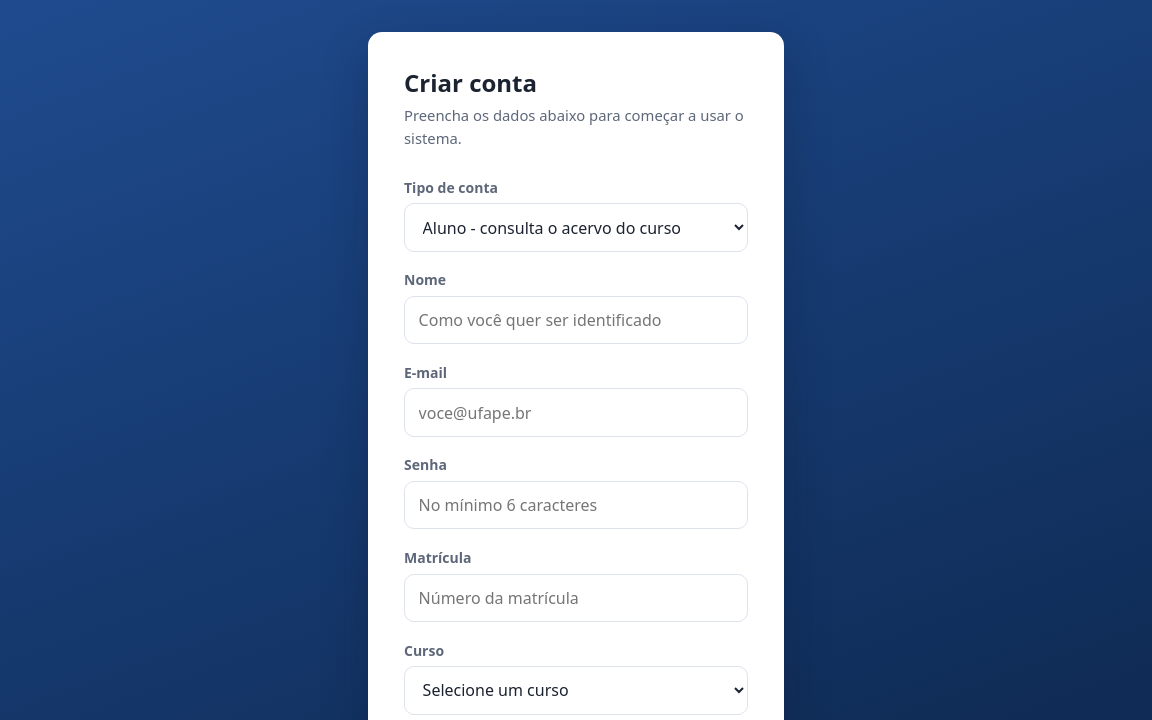
Test case: Tela de cadastro › mostra a mensagem de erro devolvida pelo backend
In the field labelled "Nome": (576, 320) [404,296,748,344], type "Ana Souza"
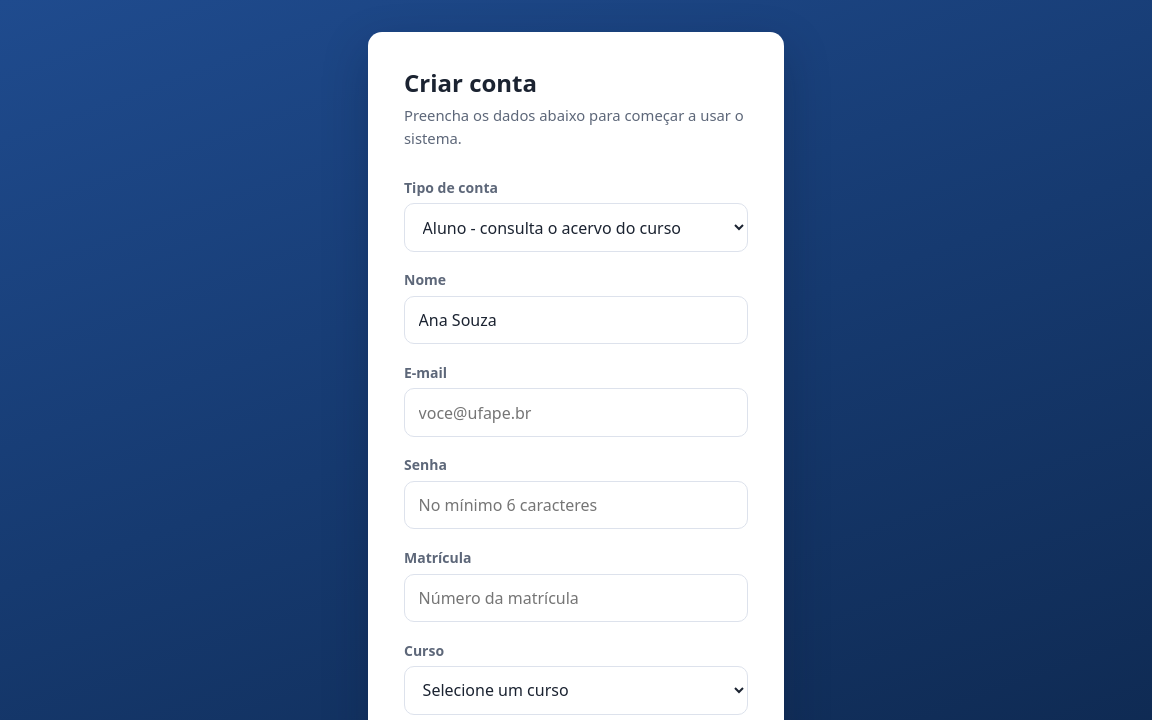
In the field labelled "E-mail": (576, 413) [404,388,748,437], type "ana@ufape.edu.br"
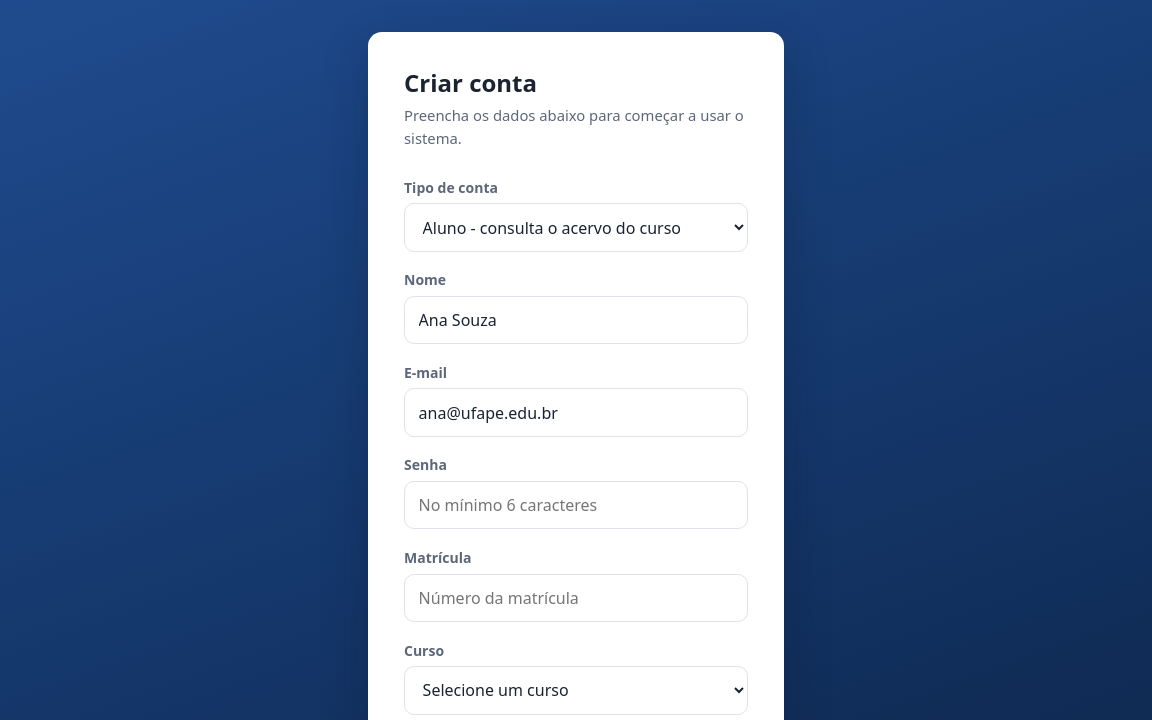
In the password field labelled "Senha": (576, 505) [404,481,748,529], type "segredo123"
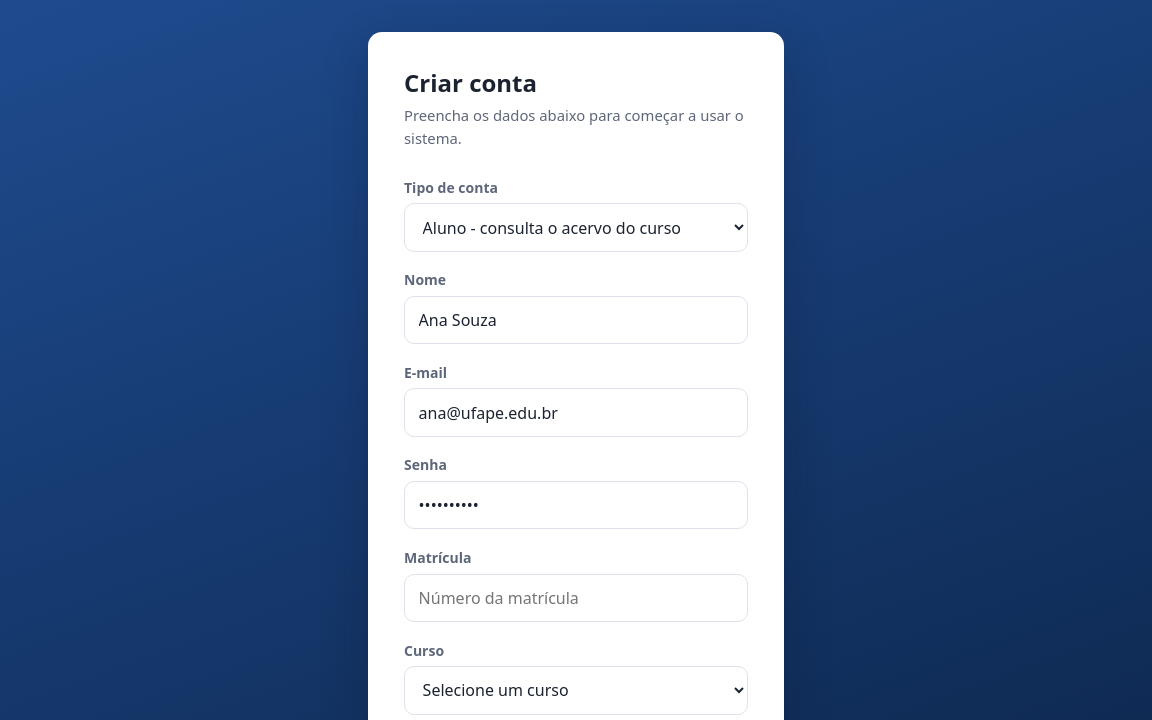
In the field labelled "Matrícula": (576, 598) [404,574,748,622], type "20230001"
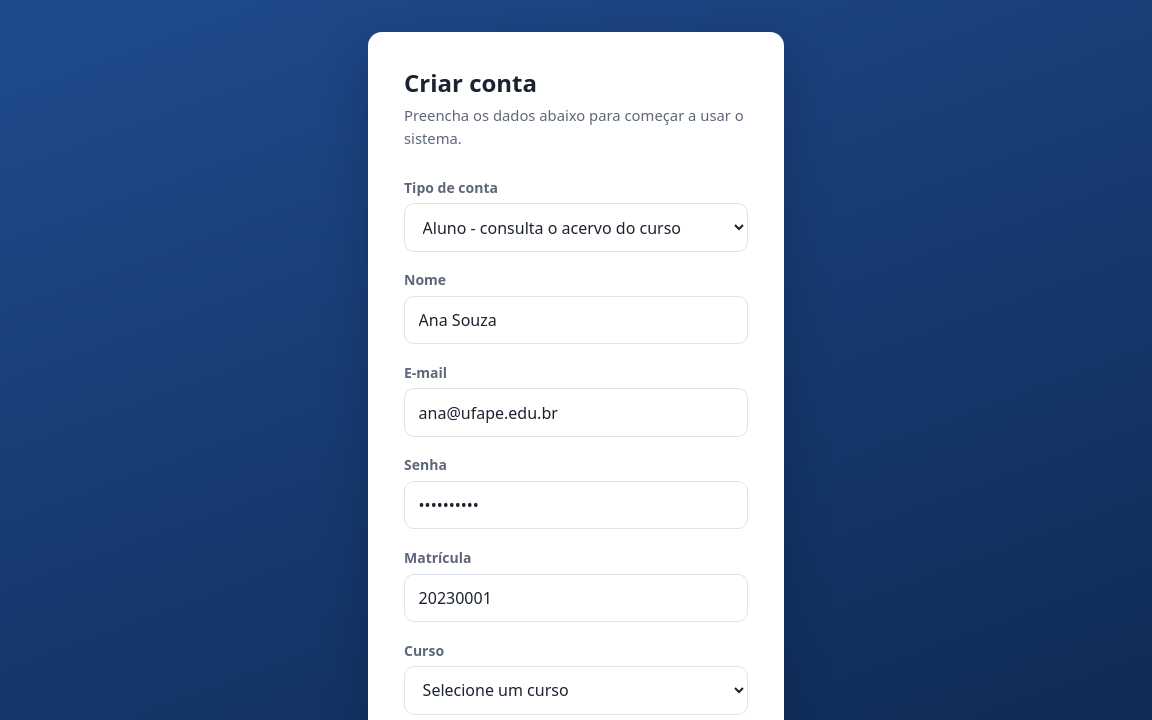
Select "Ciência da Computação" in the dropdown labelled "Curso": (576, 690) [404,666,748,715]
(page scrolled)
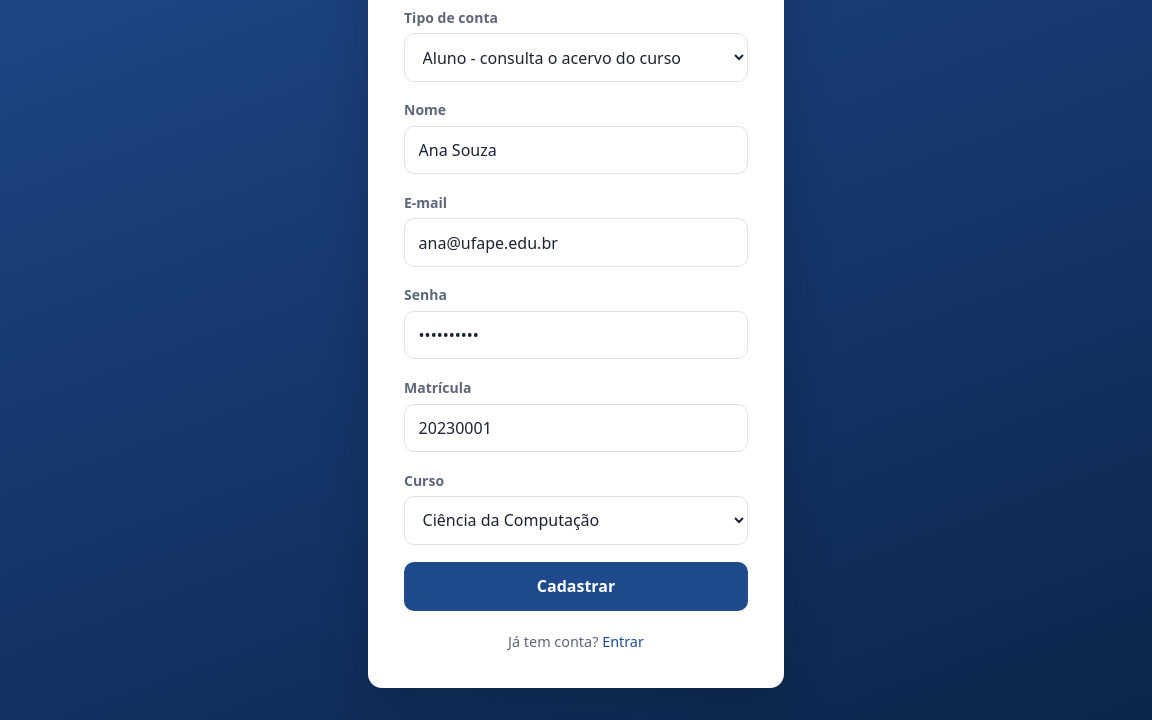
Click the button "Cadastrar": (576, 586) [404,562,748,610]
(page scrolled)
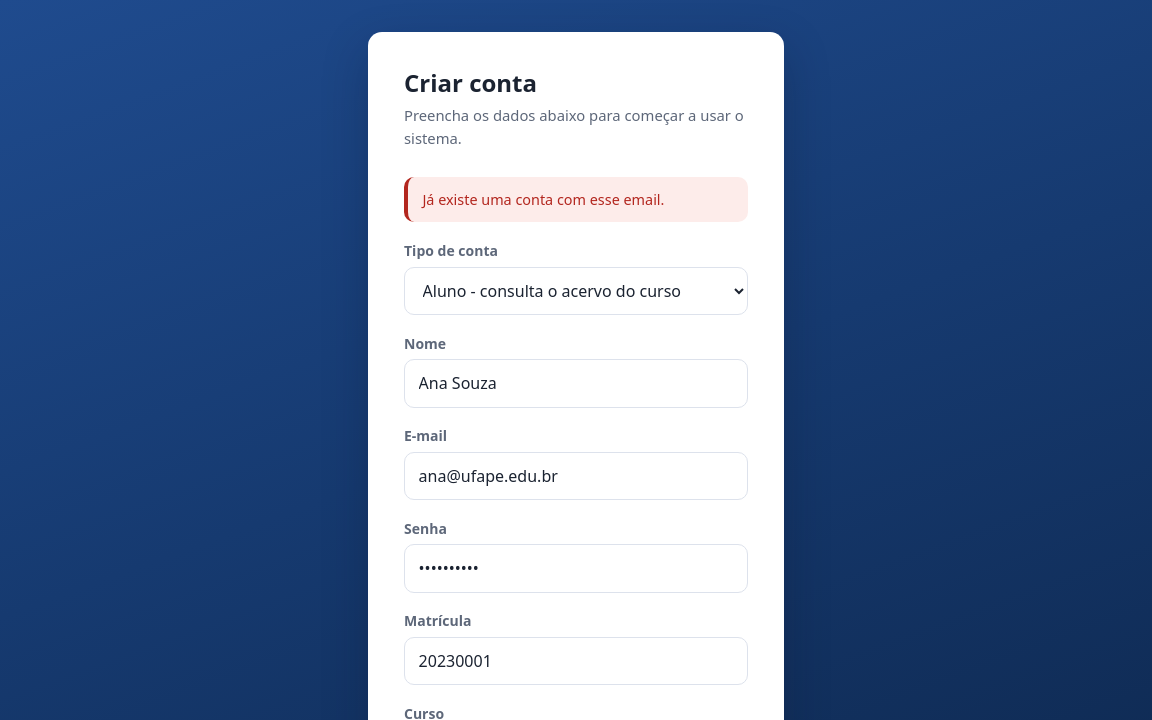
expect the text "Já existe uma conta com esse email." is shown: met, box [404,177,748,222]
